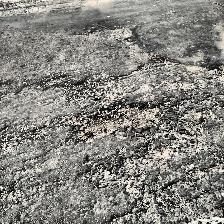pothole: (73, 102, 163, 144), (74, 76, 116, 100)
